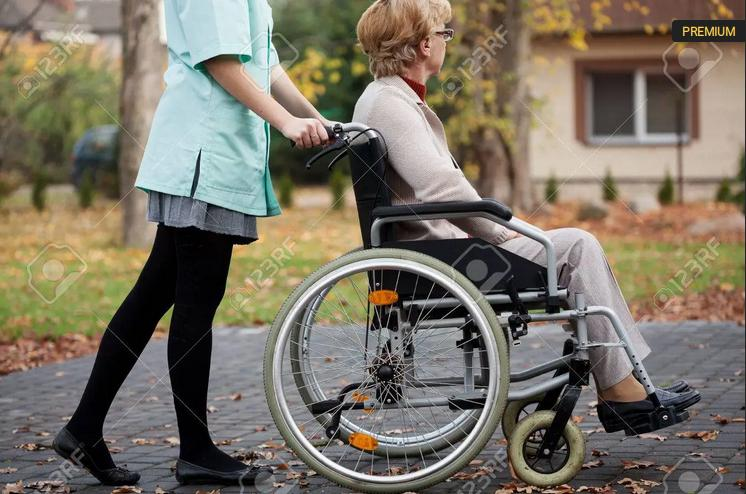push_wheelchair: (52, 0, 349, 486)
wheelchair: (262, 0, 701, 494)
